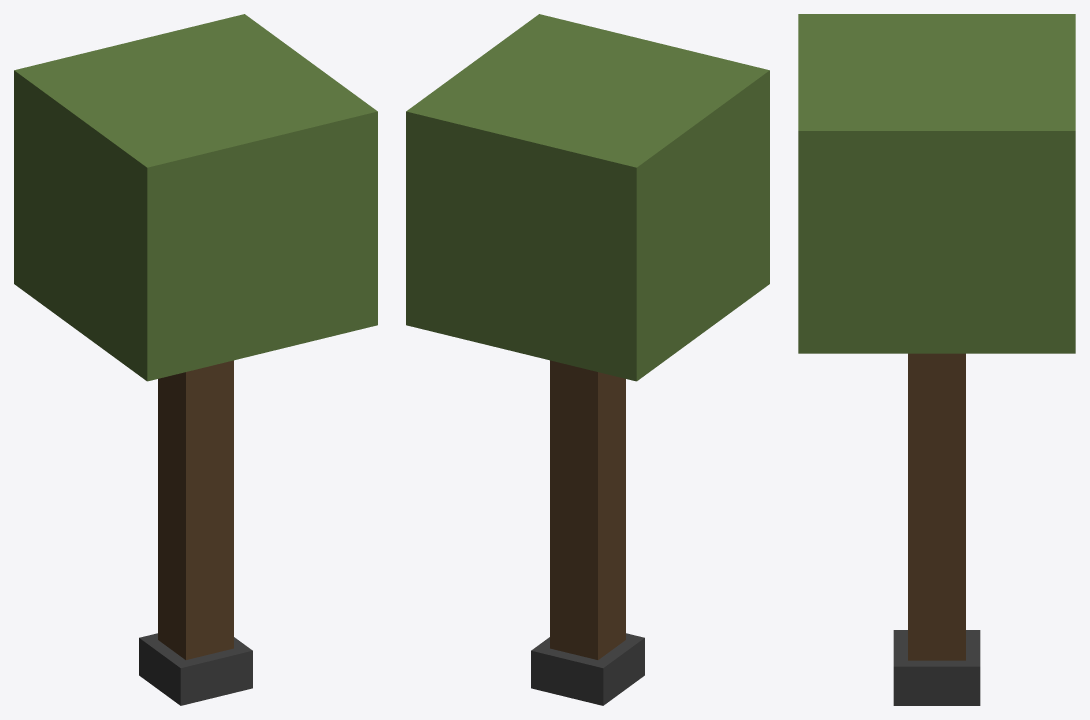
The model's file is Tree02_high.fbx.
The picture shows the model from 3 angles, left to right: view 1: azimuth 30°, elevation 25°; view 2: azimuth 150°, elevation 25°; view 3: azimuth 270°, elevation 25°; orthographic projection. The views are drawn at different scales.
Parts seen in each view (by area): view 1: Tree02_high; view 2: Tree02_high; view 3: Tree02_high.
Boxes of the visible parts, <box> form: Tree02_high: <box>14,14,377,705</box>; Tree02_high: <box>406,14,769,705</box>; Tree02_high: <box>798,14,1075,705</box>.
Bounding box in the file's own units: 192 × 470 × 192.
